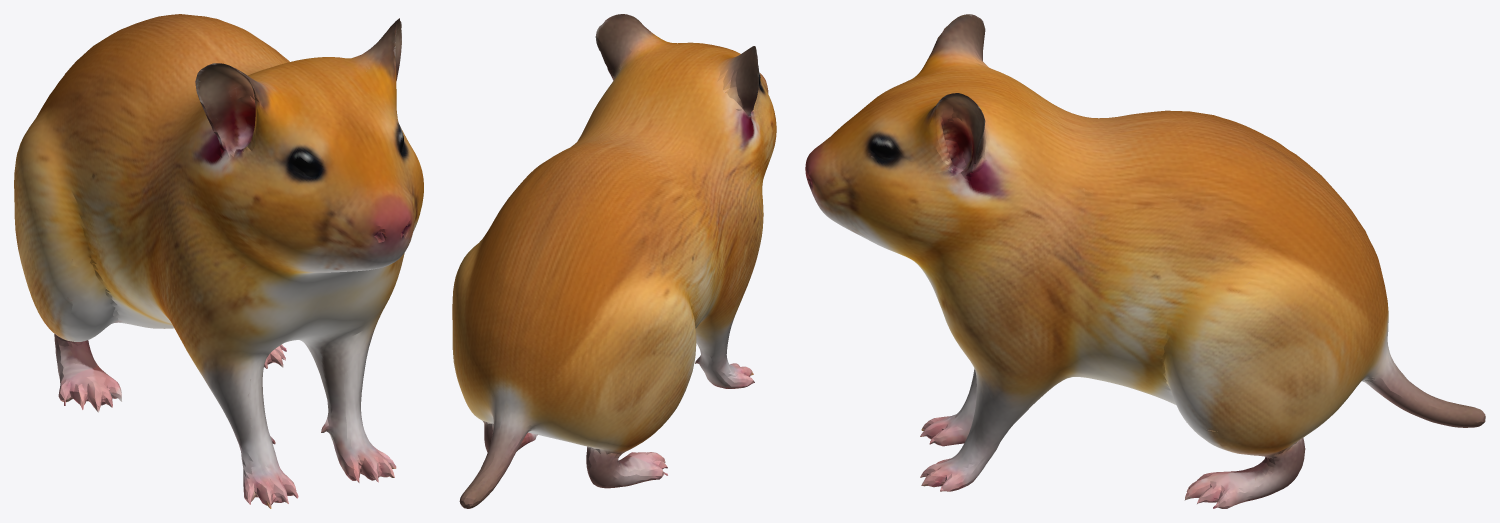
File: snake.glb
3 views of the same model, side by side, from view 1: azimuth 30°, elevation 25°; view 2: azimuth 150°, elevation 25°; view 3: azimuth 270°, elevation 25° (orthographic). The views are drawn at different scales.
Visible parts, largest first — view 1: model; view 2: model; view 3: model.
Boxes of the visible parts, box(x1,y1,x2,y2) form: model: box(14, 14, 423, 508); model: box(452, 14, 776, 508); model: box(805, 14, 1485, 508).
Bounding box in the file's own units: 0.8302 × 1.25 × 1.9.
1 material, 1 textured.
